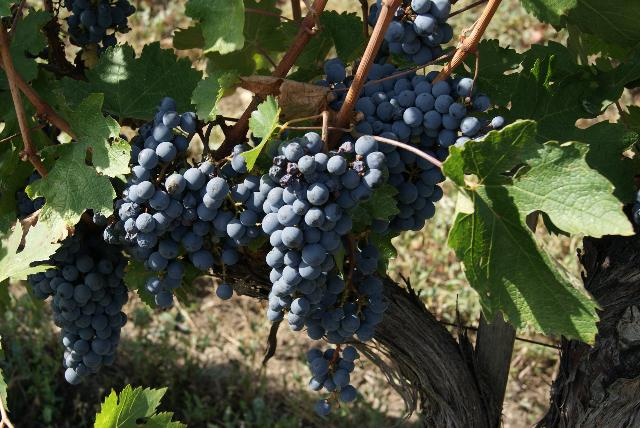grapes: (266, 132, 386, 324), (31, 222, 129, 385)
